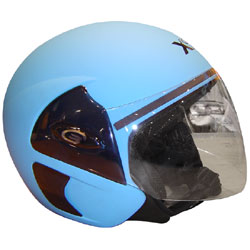helmet: (8, 25, 234, 216)
